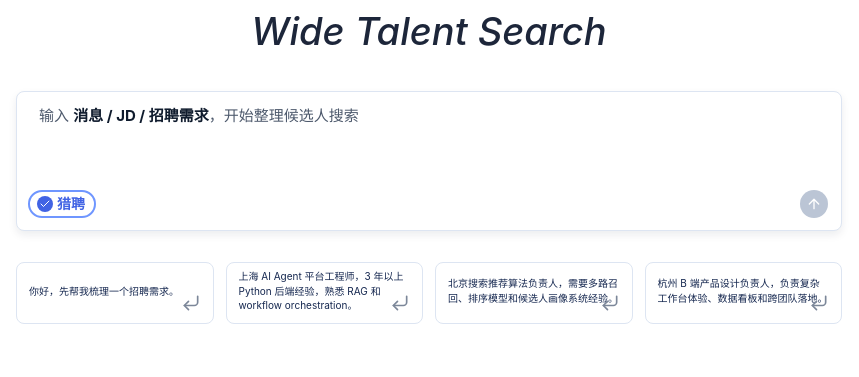
Scenario: HomeStartPanel › keeps the form content available when submit fails
This screenshot has width=859, height=377.
Type "你好，先聊一下招聘目标。" into the text box named "消息、JD 或招聘需求".
click(429, 140); type("你好，先聊一下招聘目标。")  # box [33,106,825,175]
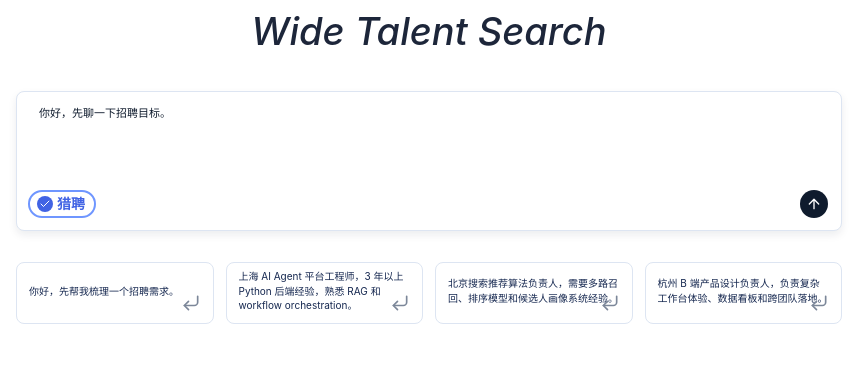
Click the button named "开始寻才".
click(814, 204)  # box [800,190,828,218]
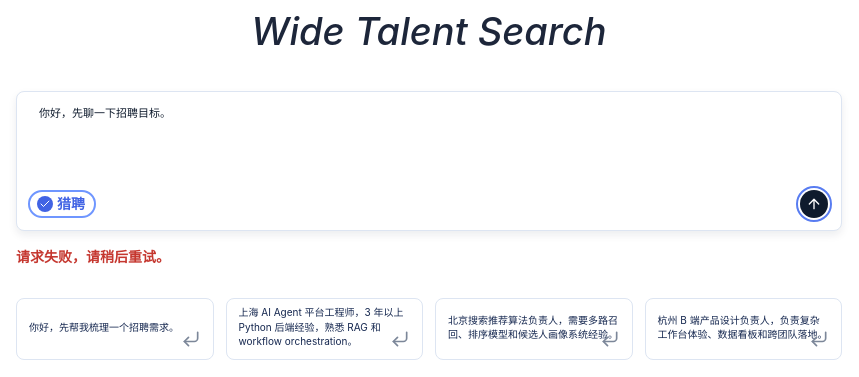
Expected: the message reads "请求失败，请稍后重试。", [16,248,170,265]
